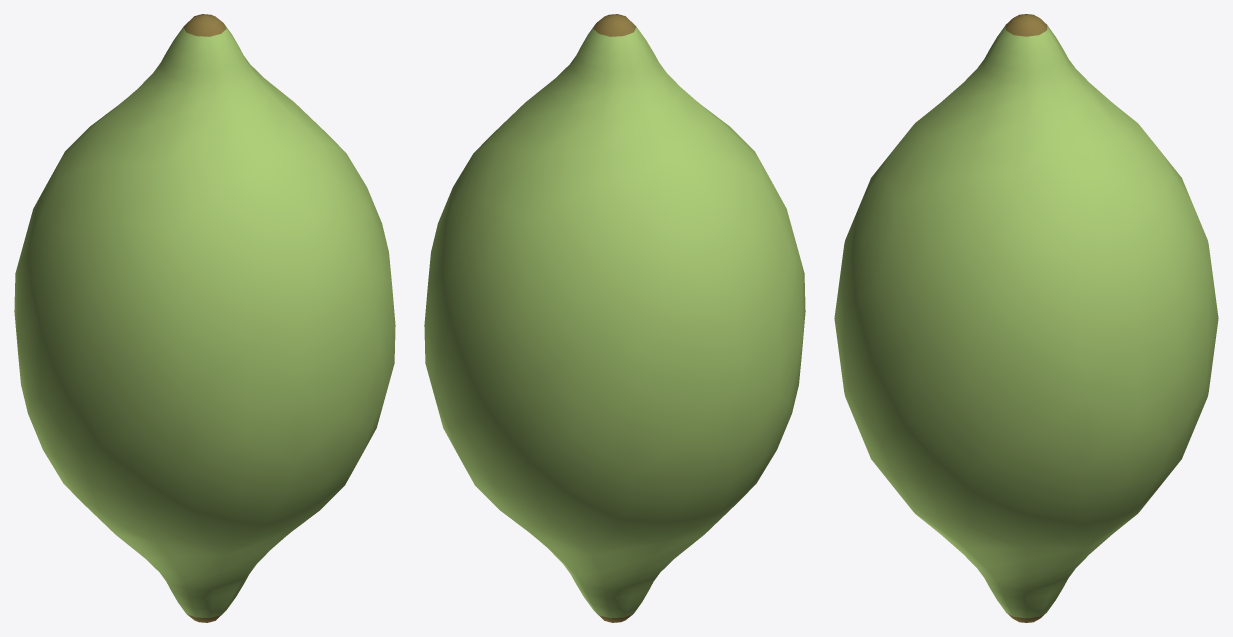
The model's file is food_lime_250326.fbx.
3 views of the same model, side by side, from view 1: azimuth 30°, elevation 25°; view 2: azimuth 150°, elevation 25°; view 3: azimuth 270°, elevation 25° (orthographic).
Visible parts, largest first — view 1: food_lime; view 2: food_lime; view 3: food_lime.
Part boxes in pixels (x1,y1,x2,y2): food_lime: (14, 14, 395, 622); food_lime: (424, 14, 805, 622); food_lime: (834, 14, 1218, 622).
Bounding box in the file's own units: 24.66 × 42.97 × 24.71.
